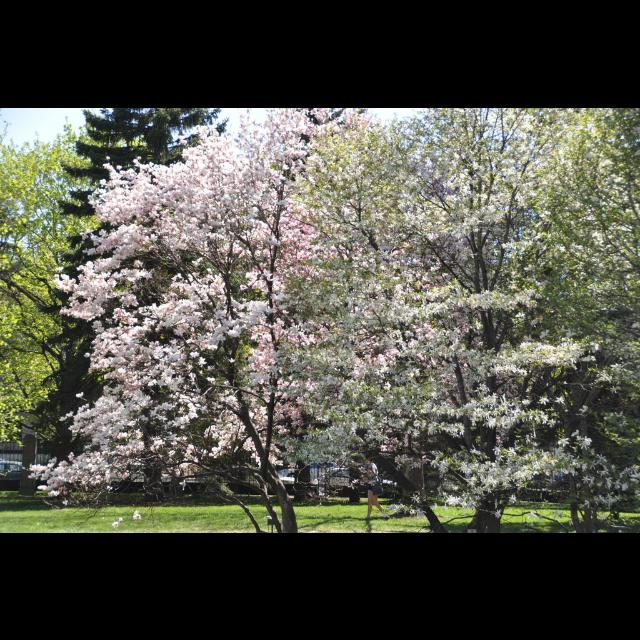Flower: (27, 108, 589, 516), (591, 108, 639, 436), (0, 140, 28, 448), (585, 451, 639, 509), (110, 520, 120, 528), (133, 508, 143, 516), (130, 515, 138, 521), (119, 516, 125, 522)
